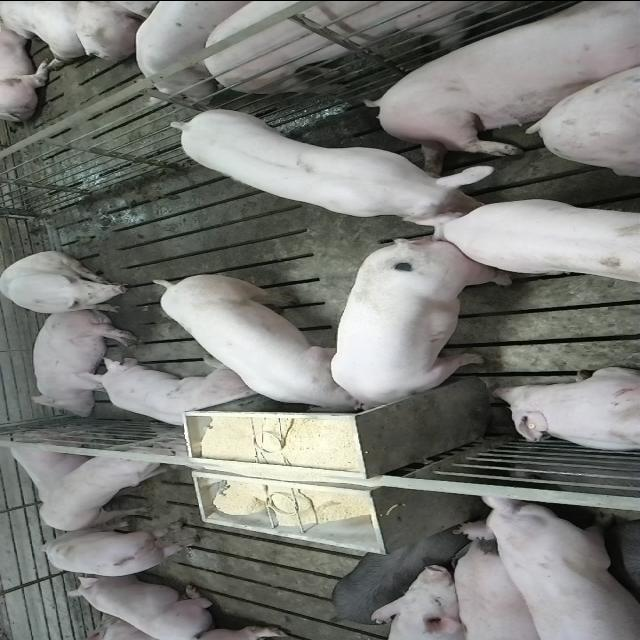Feeding: (330, 243, 512, 420), (145, 269, 361, 411)
Lateral_lying: (366, 3, 640, 163), (28, 307, 140, 416)
Sitting: (2, 250, 136, 314)
Standing: (194, 0, 640, 96), (160, 102, 490, 222), (458, 492, 640, 638), (426, 196, 640, 286), (134, 0, 258, 104), (328, 526, 458, 623), (38, 448, 174, 532), (448, 537, 550, 640), (32, 528, 190, 580), (370, 566, 468, 640)
Sternal_lying: (490, 366, 640, 454), (77, 359, 257, 432), (64, 576, 214, 638)
